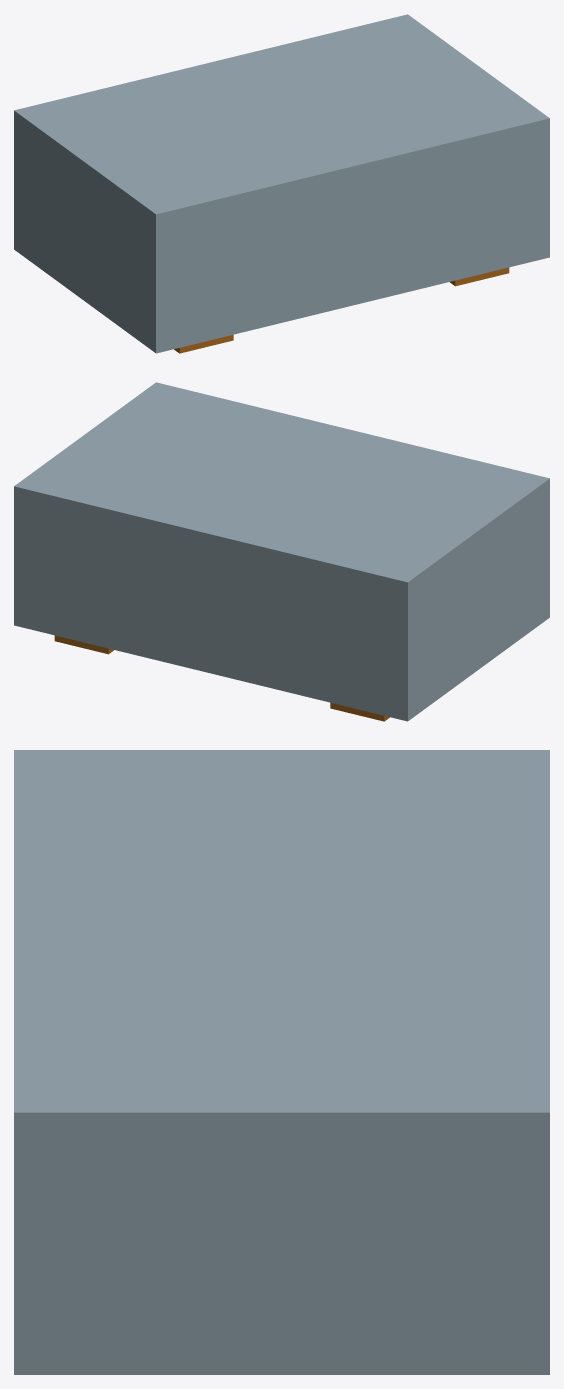
3 renders of one model, top to bottom at view 1: azimuth 30°, elevation 25°; view 2: azimuth 150°, elevation 25°; view 3: azimuth 270°, elevation 25°, orthographic. The views are drawn at different scales.
Parts seen in each view (by area): view 1: Crystal_Metal_Can; view 2: Crystal_Metal_Can; view 3: Crystal_Metal_Can.
Part boxes in pixels (x1,y1,x2,y2): Crystal_Metal_Can: (14,14,549,353); Crystal_Metal_Can: (14,382,549,721); Crystal_Metal_Can: (14,750,549,1374).
Bounding box in the file's own units: 0.8 × 0.2975 × 0.5.
